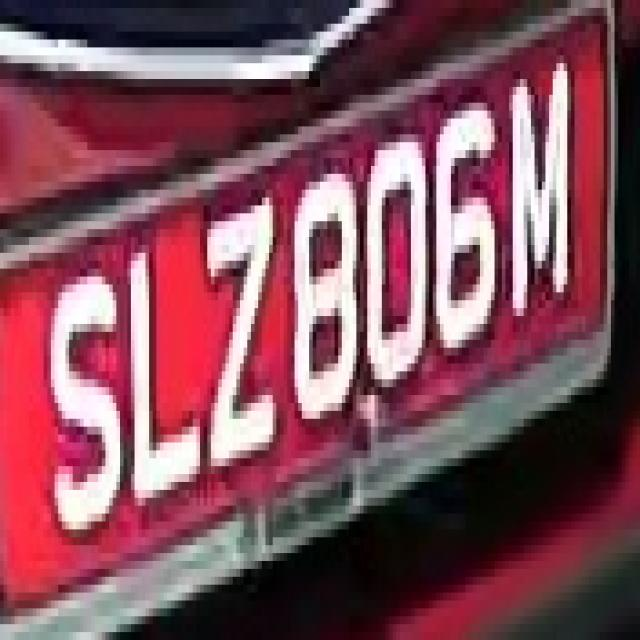0: (360, 110, 433, 418)
6: (425, 79, 502, 387)
8: (288, 182, 368, 458)
L: (124, 229, 211, 514)
M: (498, 55, 582, 348)
S: (33, 253, 120, 553)
Z: (192, 182, 284, 490)
